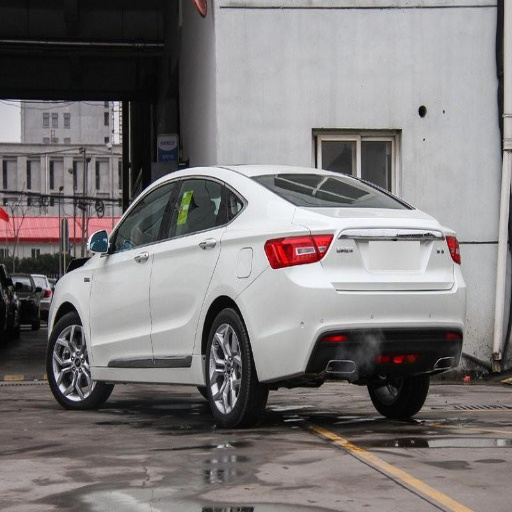back_bumper: (243, 265, 467, 378)
back_glass: (253, 173, 404, 206)
back_left_door: (150, 176, 227, 360)
tailgate: (307, 210, 446, 290)
